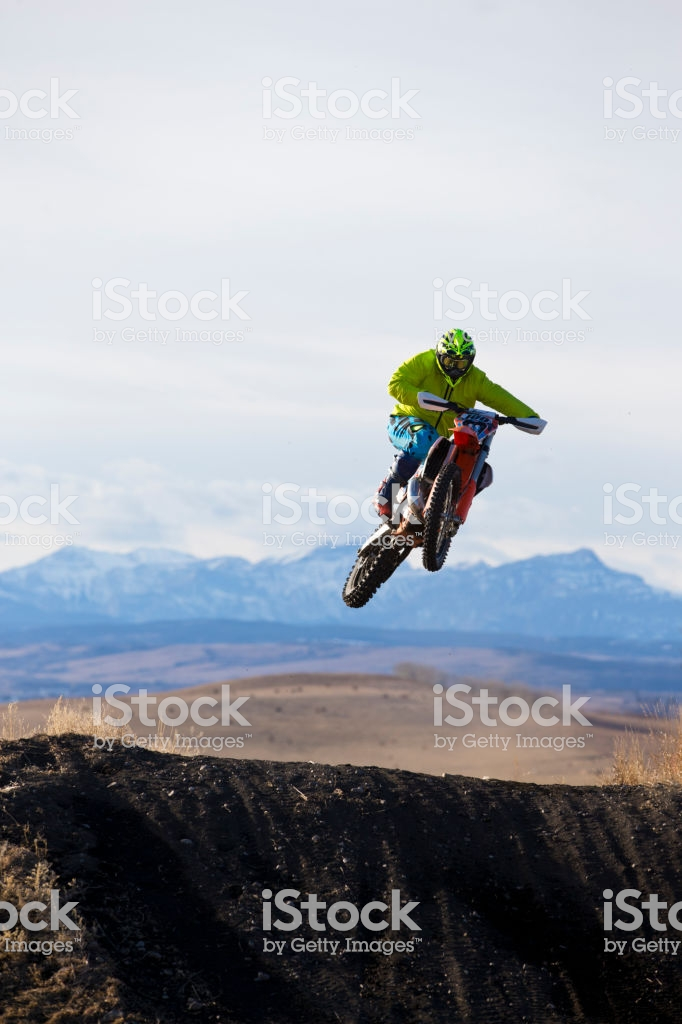helmet: (440, 323, 480, 378)
